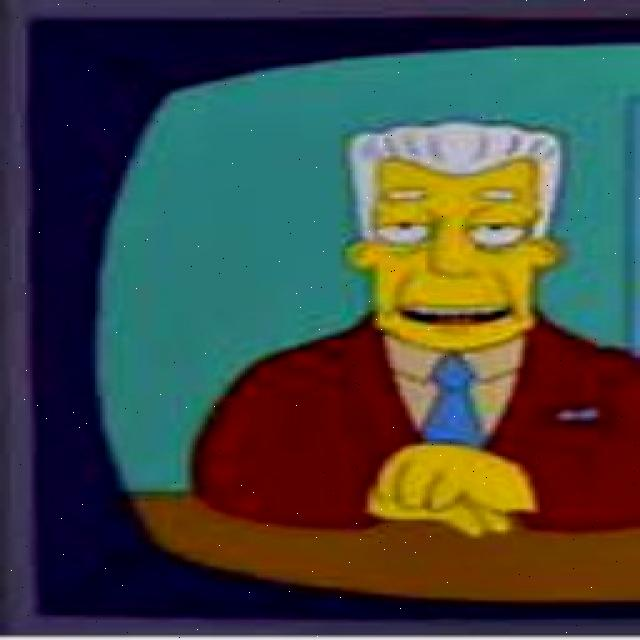Kent Brockman: (338, 111, 568, 357)
